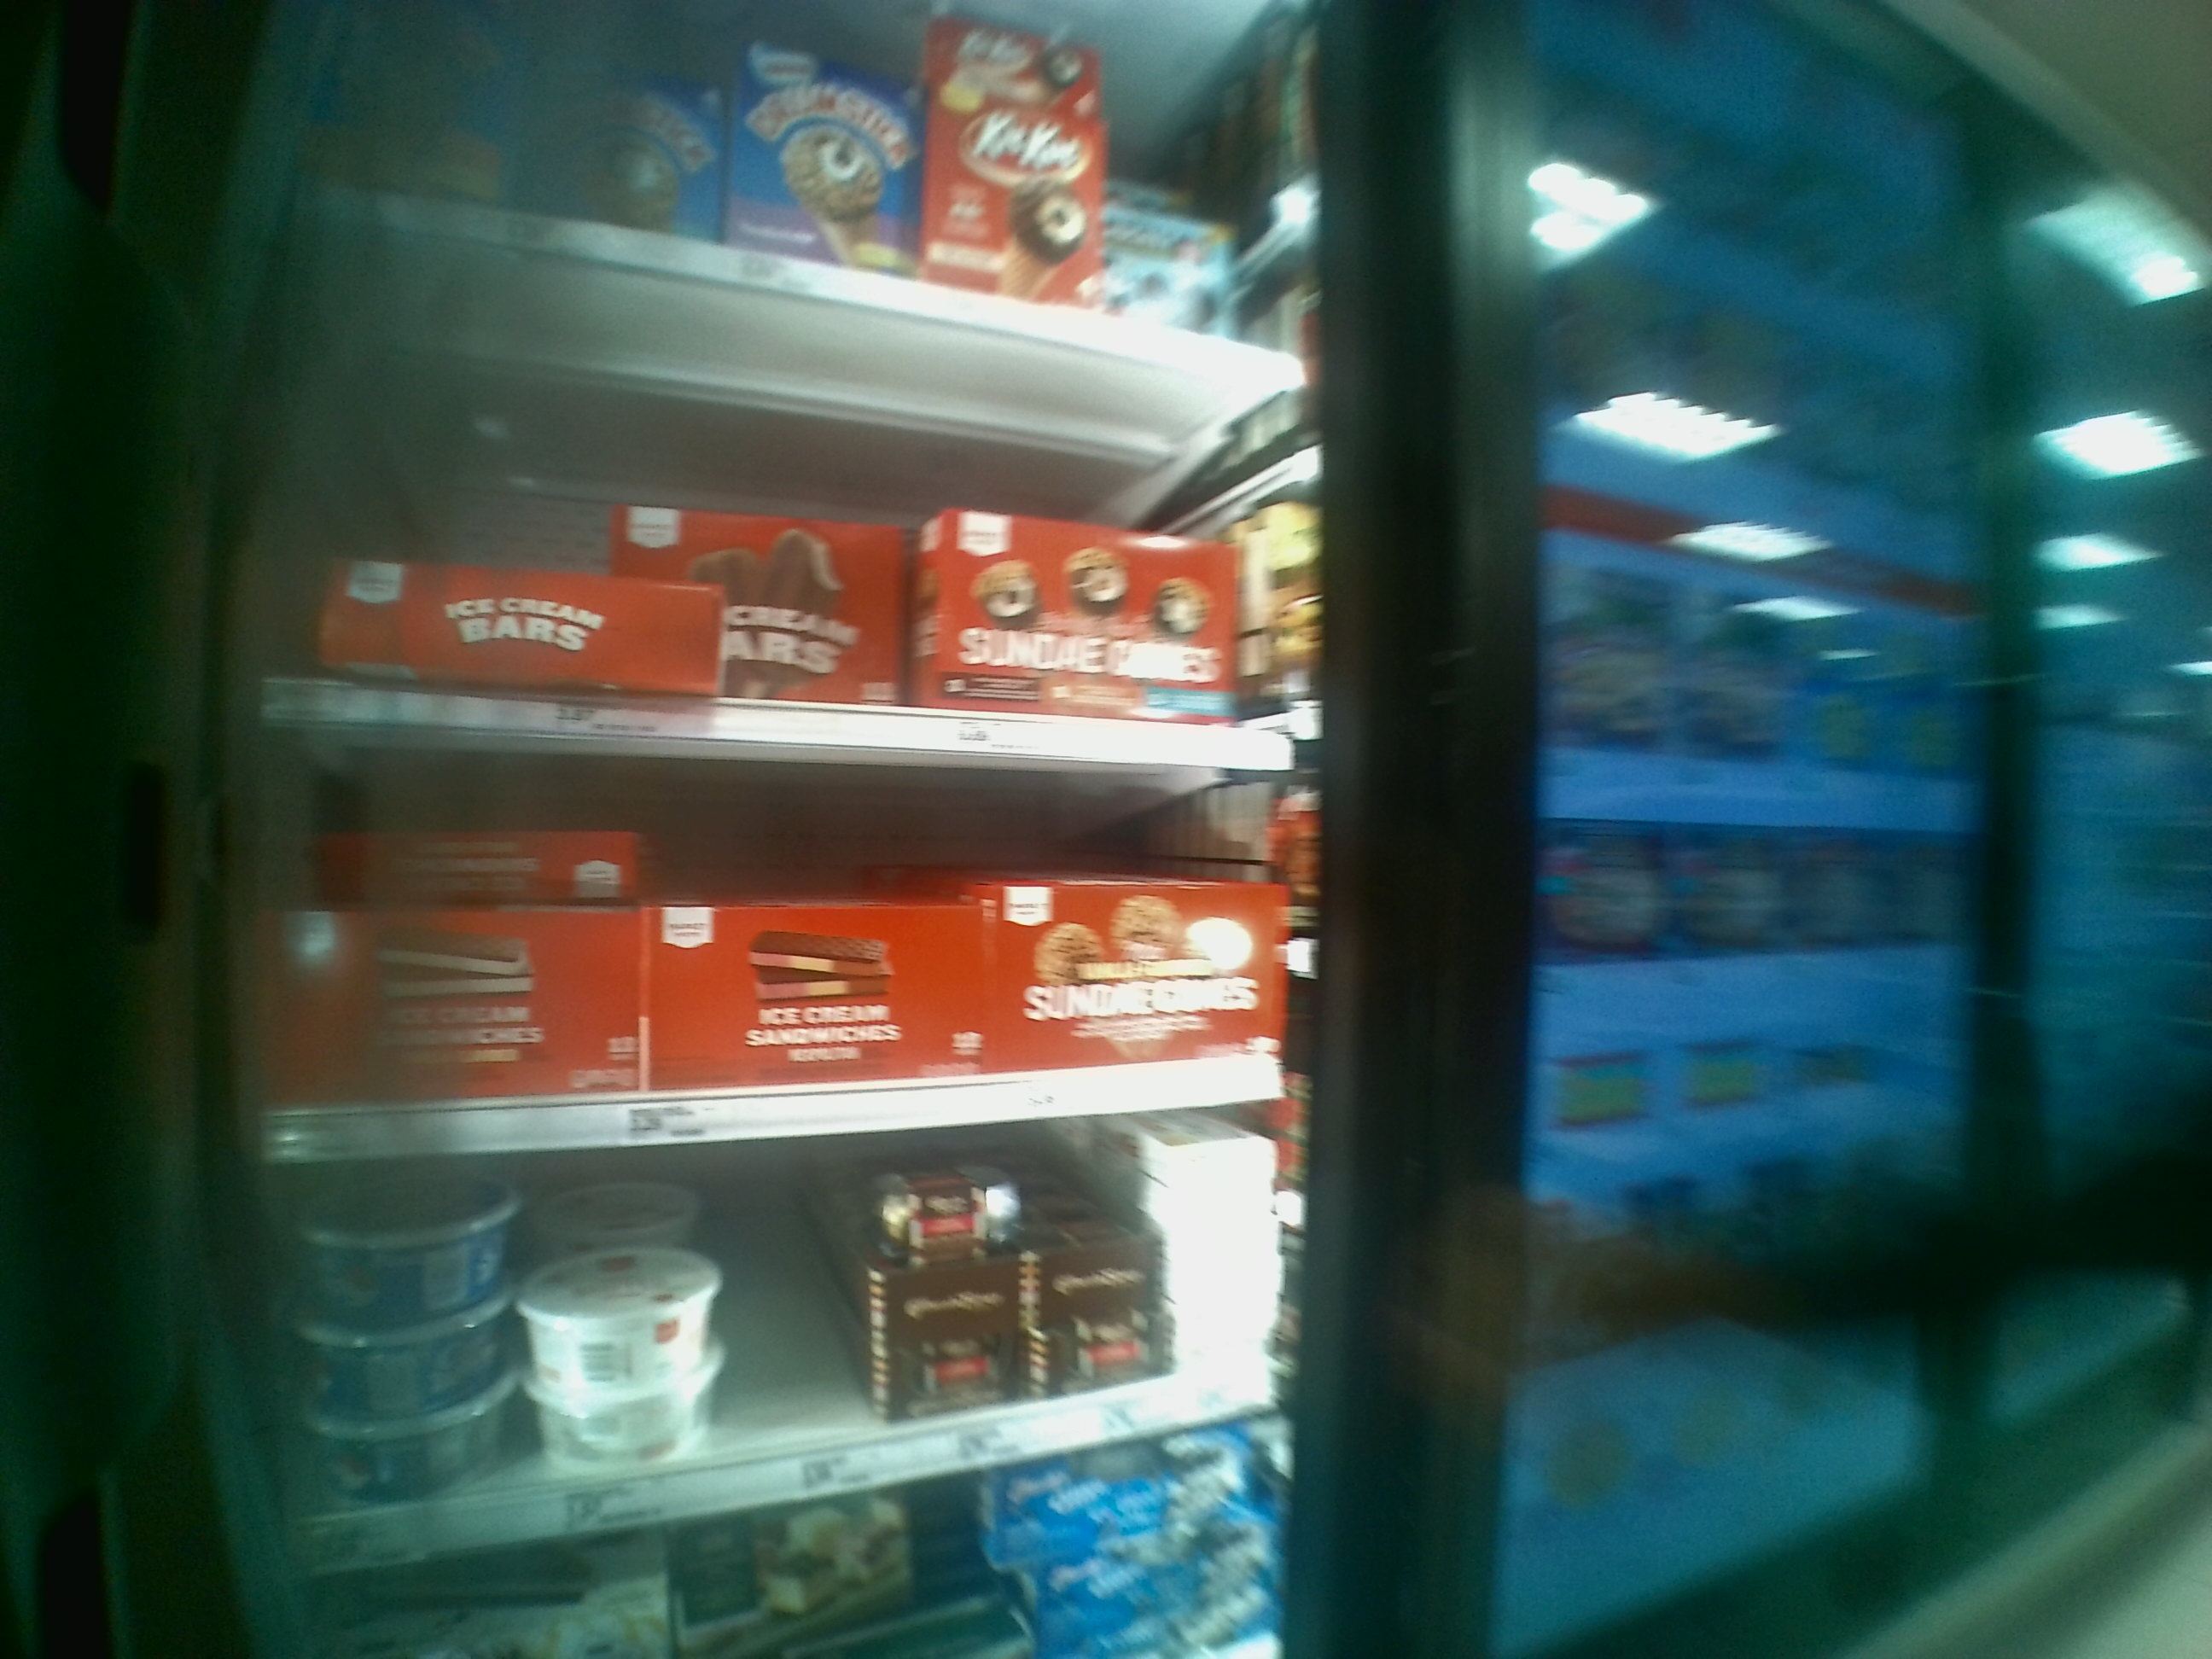shelf: (261, 350, 1256, 763), (249, 786, 1282, 1157)
